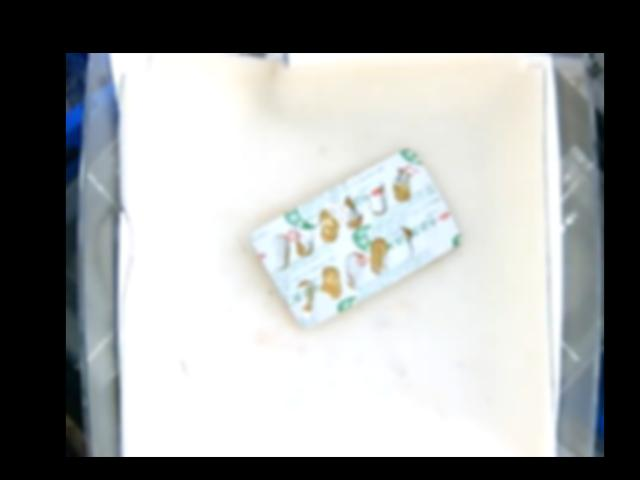Medicine: (251, 148, 465, 325)
